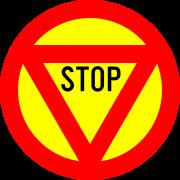Stop: (9, 10, 170, 169)
